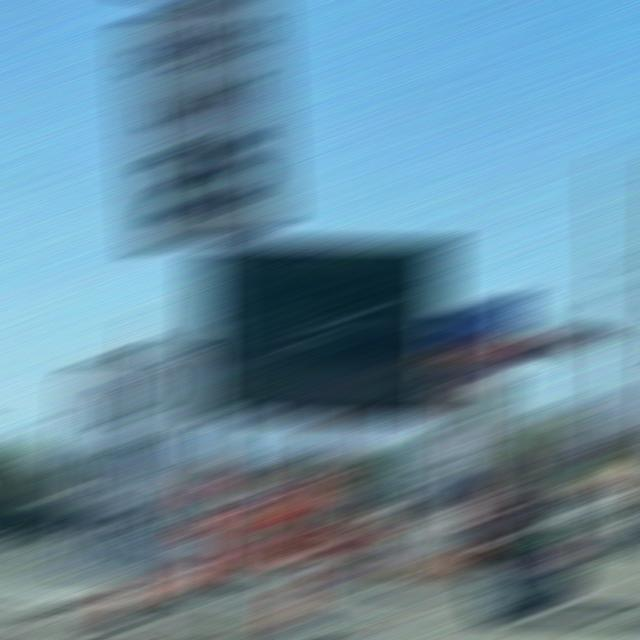speedLimit25: (122, 8, 278, 235)
